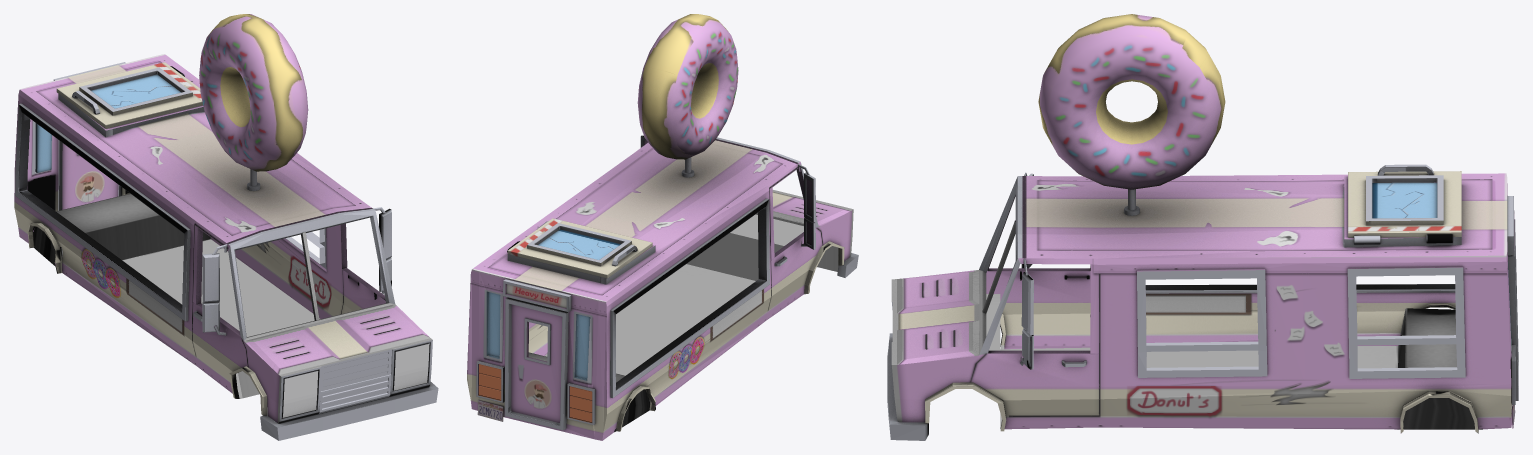
The model's file is DonutTruck.FBX.
3 renders of one model, left to right at view 1: azimuth 30°, elevation 25°; view 2: azimuth 150°, elevation 25°; view 3: azimuth 270°, elevation 25°, orthographic. The views are drawn at different scales.
Visible parts, largest first — view 1: m_Car; view 2: m_Car; view 3: m_Car.
Boxes of the visible parts, bbox=[...] form: m_Car: bbox=[14, 14, 438, 440]; m_Car: bbox=[467, 14, 858, 440]; m_Car: bbox=[887, 14, 1518, 440].
Bounding box in the file's own units: 133 × 219 × 331.
